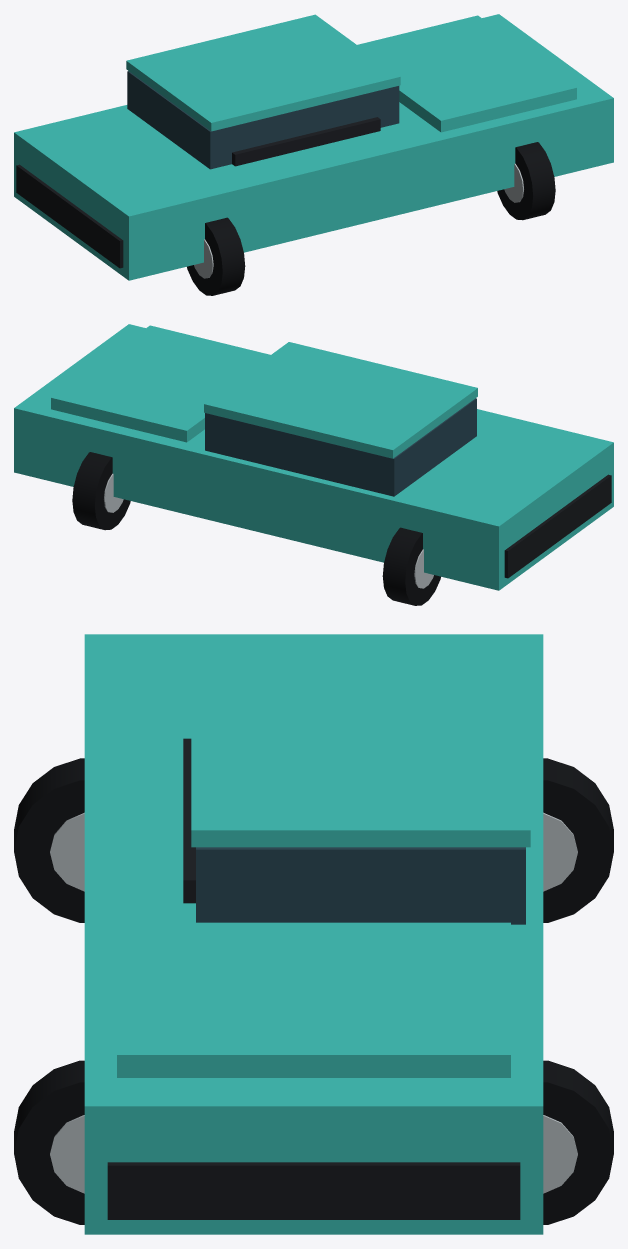
Rendered from chevy_camaro_ss.glb.
3 renders of one model, top to bottom at view 1: azimuth 30°, elevation 25°; view 2: azimuth 150°, elevation 25°; view 3: azimuth 270°, elevation 25°, orthographic. The views are drawn at different scales.
Visible parts, largest first — view 1: body, roof, hood, cabin, rear_bumper, front_right_wheel, rear_right_wheel, interior; view 2: body, roof, hood, cabin, rear_bumper, front_left_wheel, rear_left_wheel; view 3: body, roof, hood, cabin, front_bumper, front_left_wheel, front_right_wheel, rear_left_wheel, rear_right_wheel, interior.
Boxes of the visible parts, <box> form: body: <box>14,14,613,280</box>; roof: <box>126,14,400,131</box>; hood: <box>357,15,576,132</box>; cabin: <box>127,71,399,169</box>; rear_bumper: <box>16,164,123,268</box>; front_right_wheel: <box>497,142,555,220</box>; rear_right_wheel: <box>187,217,245,295</box>; interior: <box>232,117,380,166</box>; body: <box>14,324,613,590</box>; roof: <box>204,342,477,458</box>; hood: <box>51,325,270,442</box>; cabin: <box>205,398,476,496</box>; rear_bumper: <box>504,474,611,578</box>; front_left_wheel: <box>72,452,130,530</box>; rear_left_wheel: <box>382,527,440,605</box>; body: <box>84,634,543,1234</box>; roof: <box>191,646,530,847</box>; hood: <box>117,922,510,1077</box>; cabin: <box>196,847,525,924</box>; front_bumper: <box>107,1162,520,1219</box>; front_left_wheel: <box>543,1060,613,1224</box>; front_right_wheel: <box>14,1060,84,1224</box>; rear_left_wheel: <box>543,758,613,922</box>; rear_right_wheel: <box>14,758,84,922</box>; interior: <box>183,738,195,903</box>.
Bounding box in the file's own units: 4.81 × 1.35 × 2.55.
